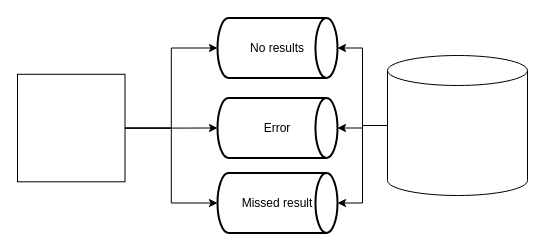
Some shapes in this 545 by 251 pixel diagram are drawn without their labels. Here are the shapes that lost their labels. From the top down, the centre of each, then its label:
point (70, 127): connect-adapter-tf
point (457, 125): Data Warehouse
